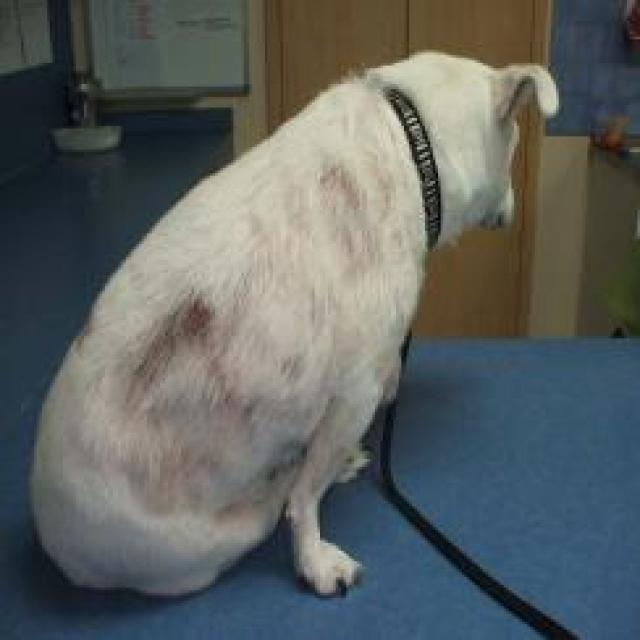fungal infection: (141, 434, 216, 518), (116, 338, 178, 404), (248, 431, 316, 487), (318, 150, 373, 218), (167, 285, 225, 347), (208, 379, 262, 420), (269, 342, 315, 388), (71, 316, 99, 352)
